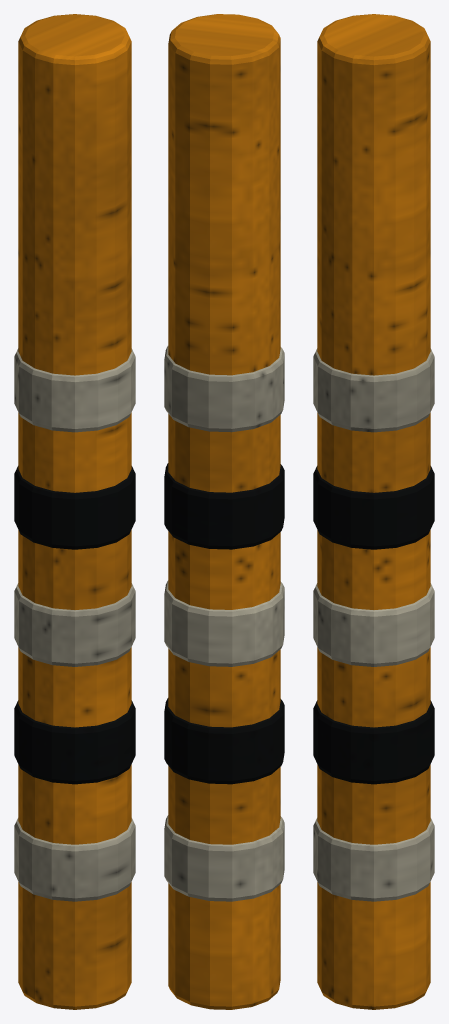
The model's file is PROP-B0FC71B0C1D3_lod0.glb.
3 renders of one model, left to right at view 1: azimuth 90°, elevation 25°; view 2: azimuth 210°, elevation 25°; view 3: azimuth 270°, elevation 25°, orthographic.
Parts seen in each view (by area): view 1: bollard.004, reflective_bands.004, reflective_bands.005; view 2: bollard.004, reflective_bands.004, reflective_bands.005; view 3: bollard.004, reflective_bands.004, reflective_bands.005.
Part boxes in pixels (<box>): bollard.004: <box>18,14,131,1009</box>; reflective_bands.004: <box>14,348,135,901</box>; reflective_bands.005: <box>14,466,135,784</box>; bollard.004: <box>168,14,280,1009</box>; reflective_bands.004: <box>164,346,284,901</box>; reflective_bands.005: <box>164,463,284,784</box>; bollard.004: <box>317,14,430,1009</box>; reflective_bands.004: <box>313,348,434,901</box>; reflective_bands.005: <box>313,466,434,784</box>.
Bounding box in the file's own units: 0.15 × 1.3 × 0.15.
3 materials, 3 textured.
